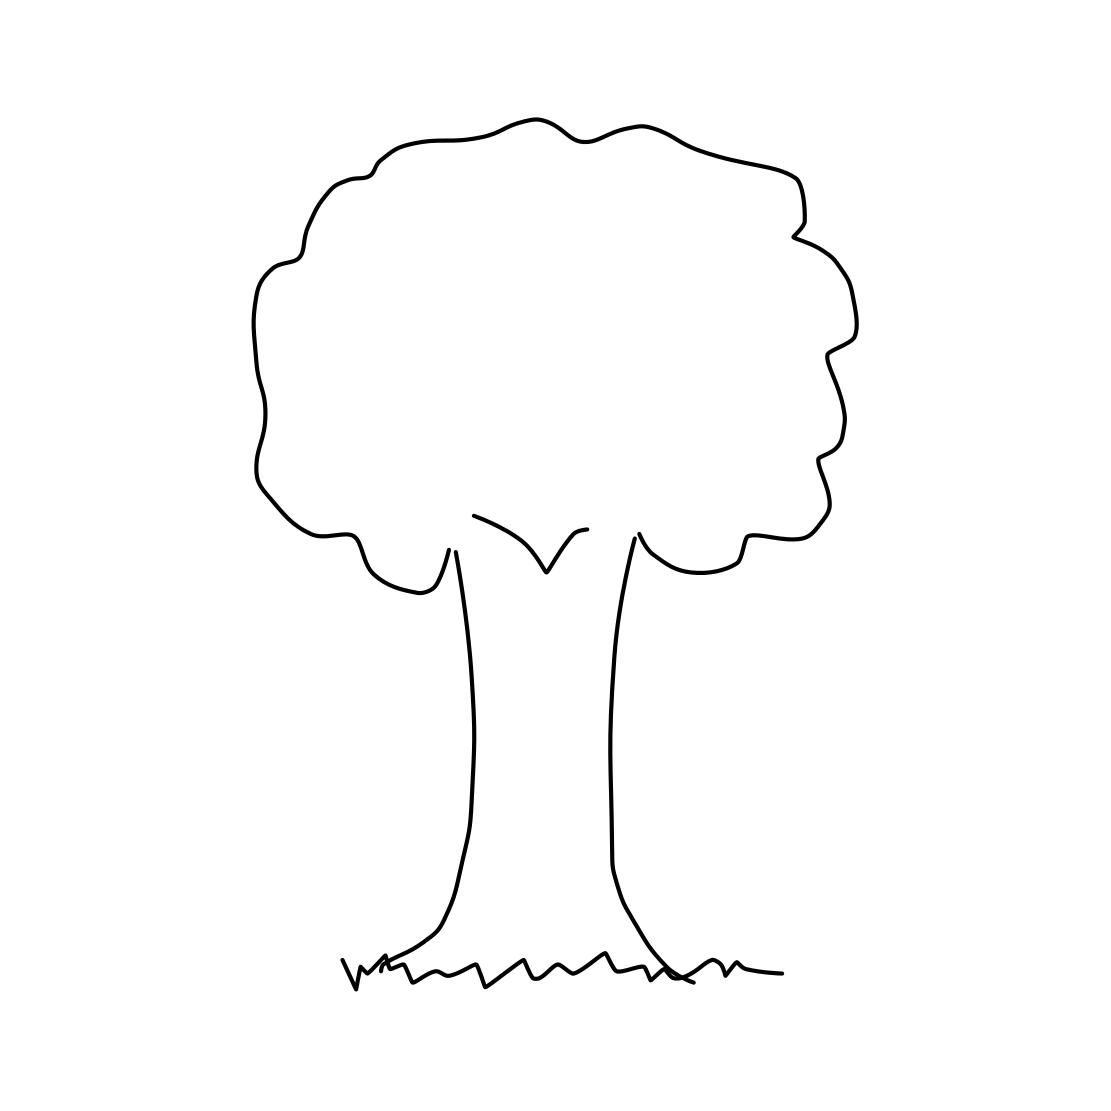Tree: (225, 74, 915, 992)
